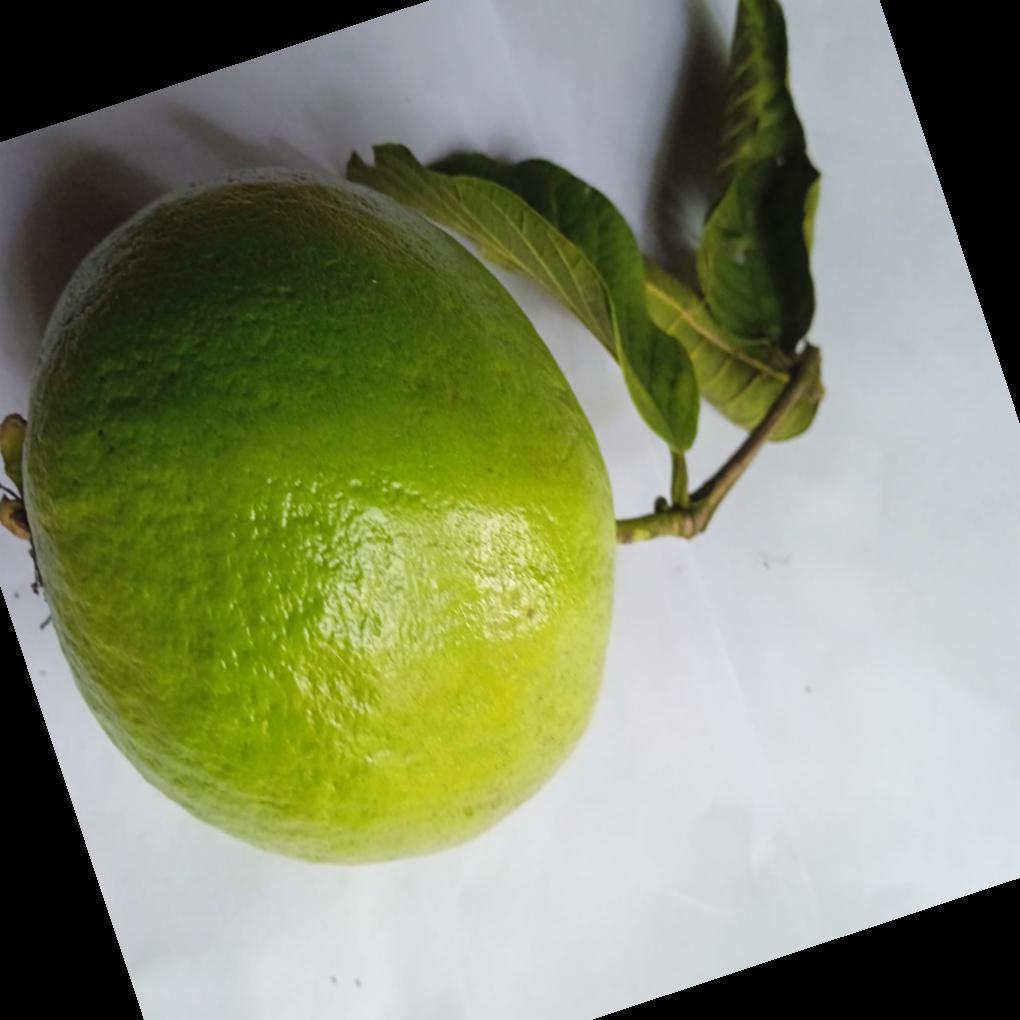FreshGuava: (9, 0, 825, 871)
